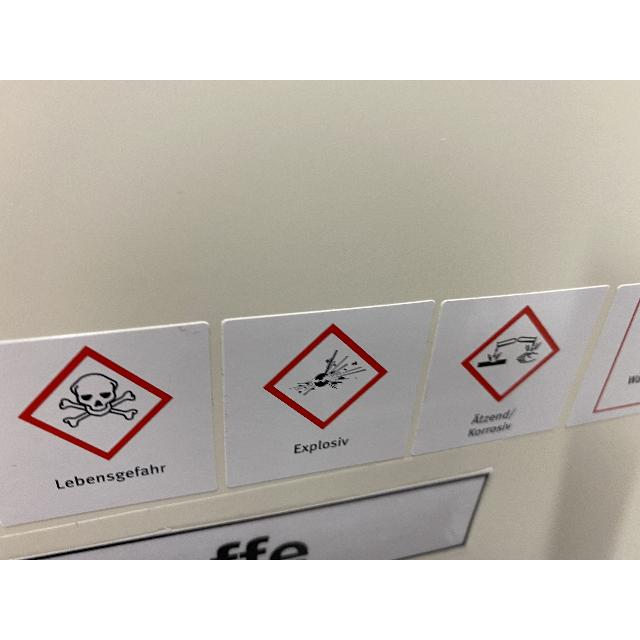acute toxicity: (59, 372, 137, 428)
corrosive: (477, 337, 541, 368)
explosive: (289, 350, 366, 396)
